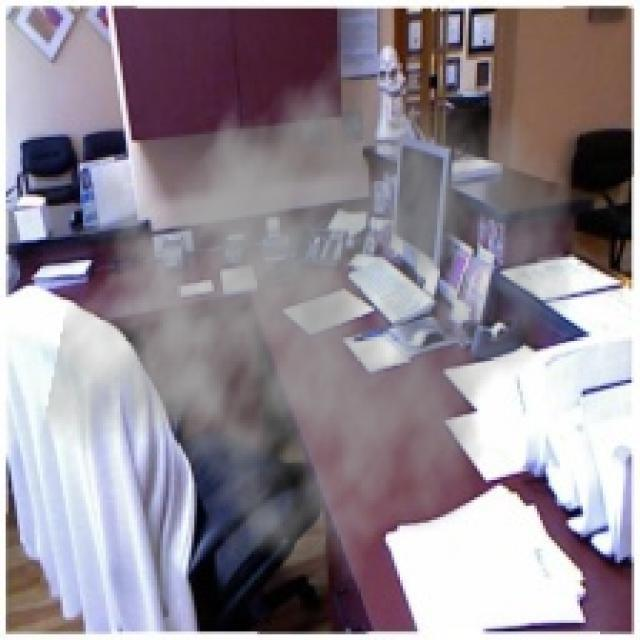Smoke: (40, 22, 580, 588)
